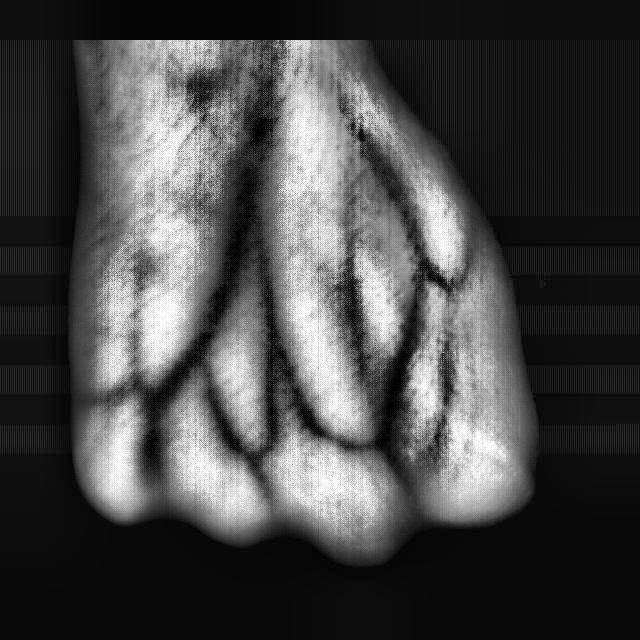Vein: (186, 164, 274, 352)
